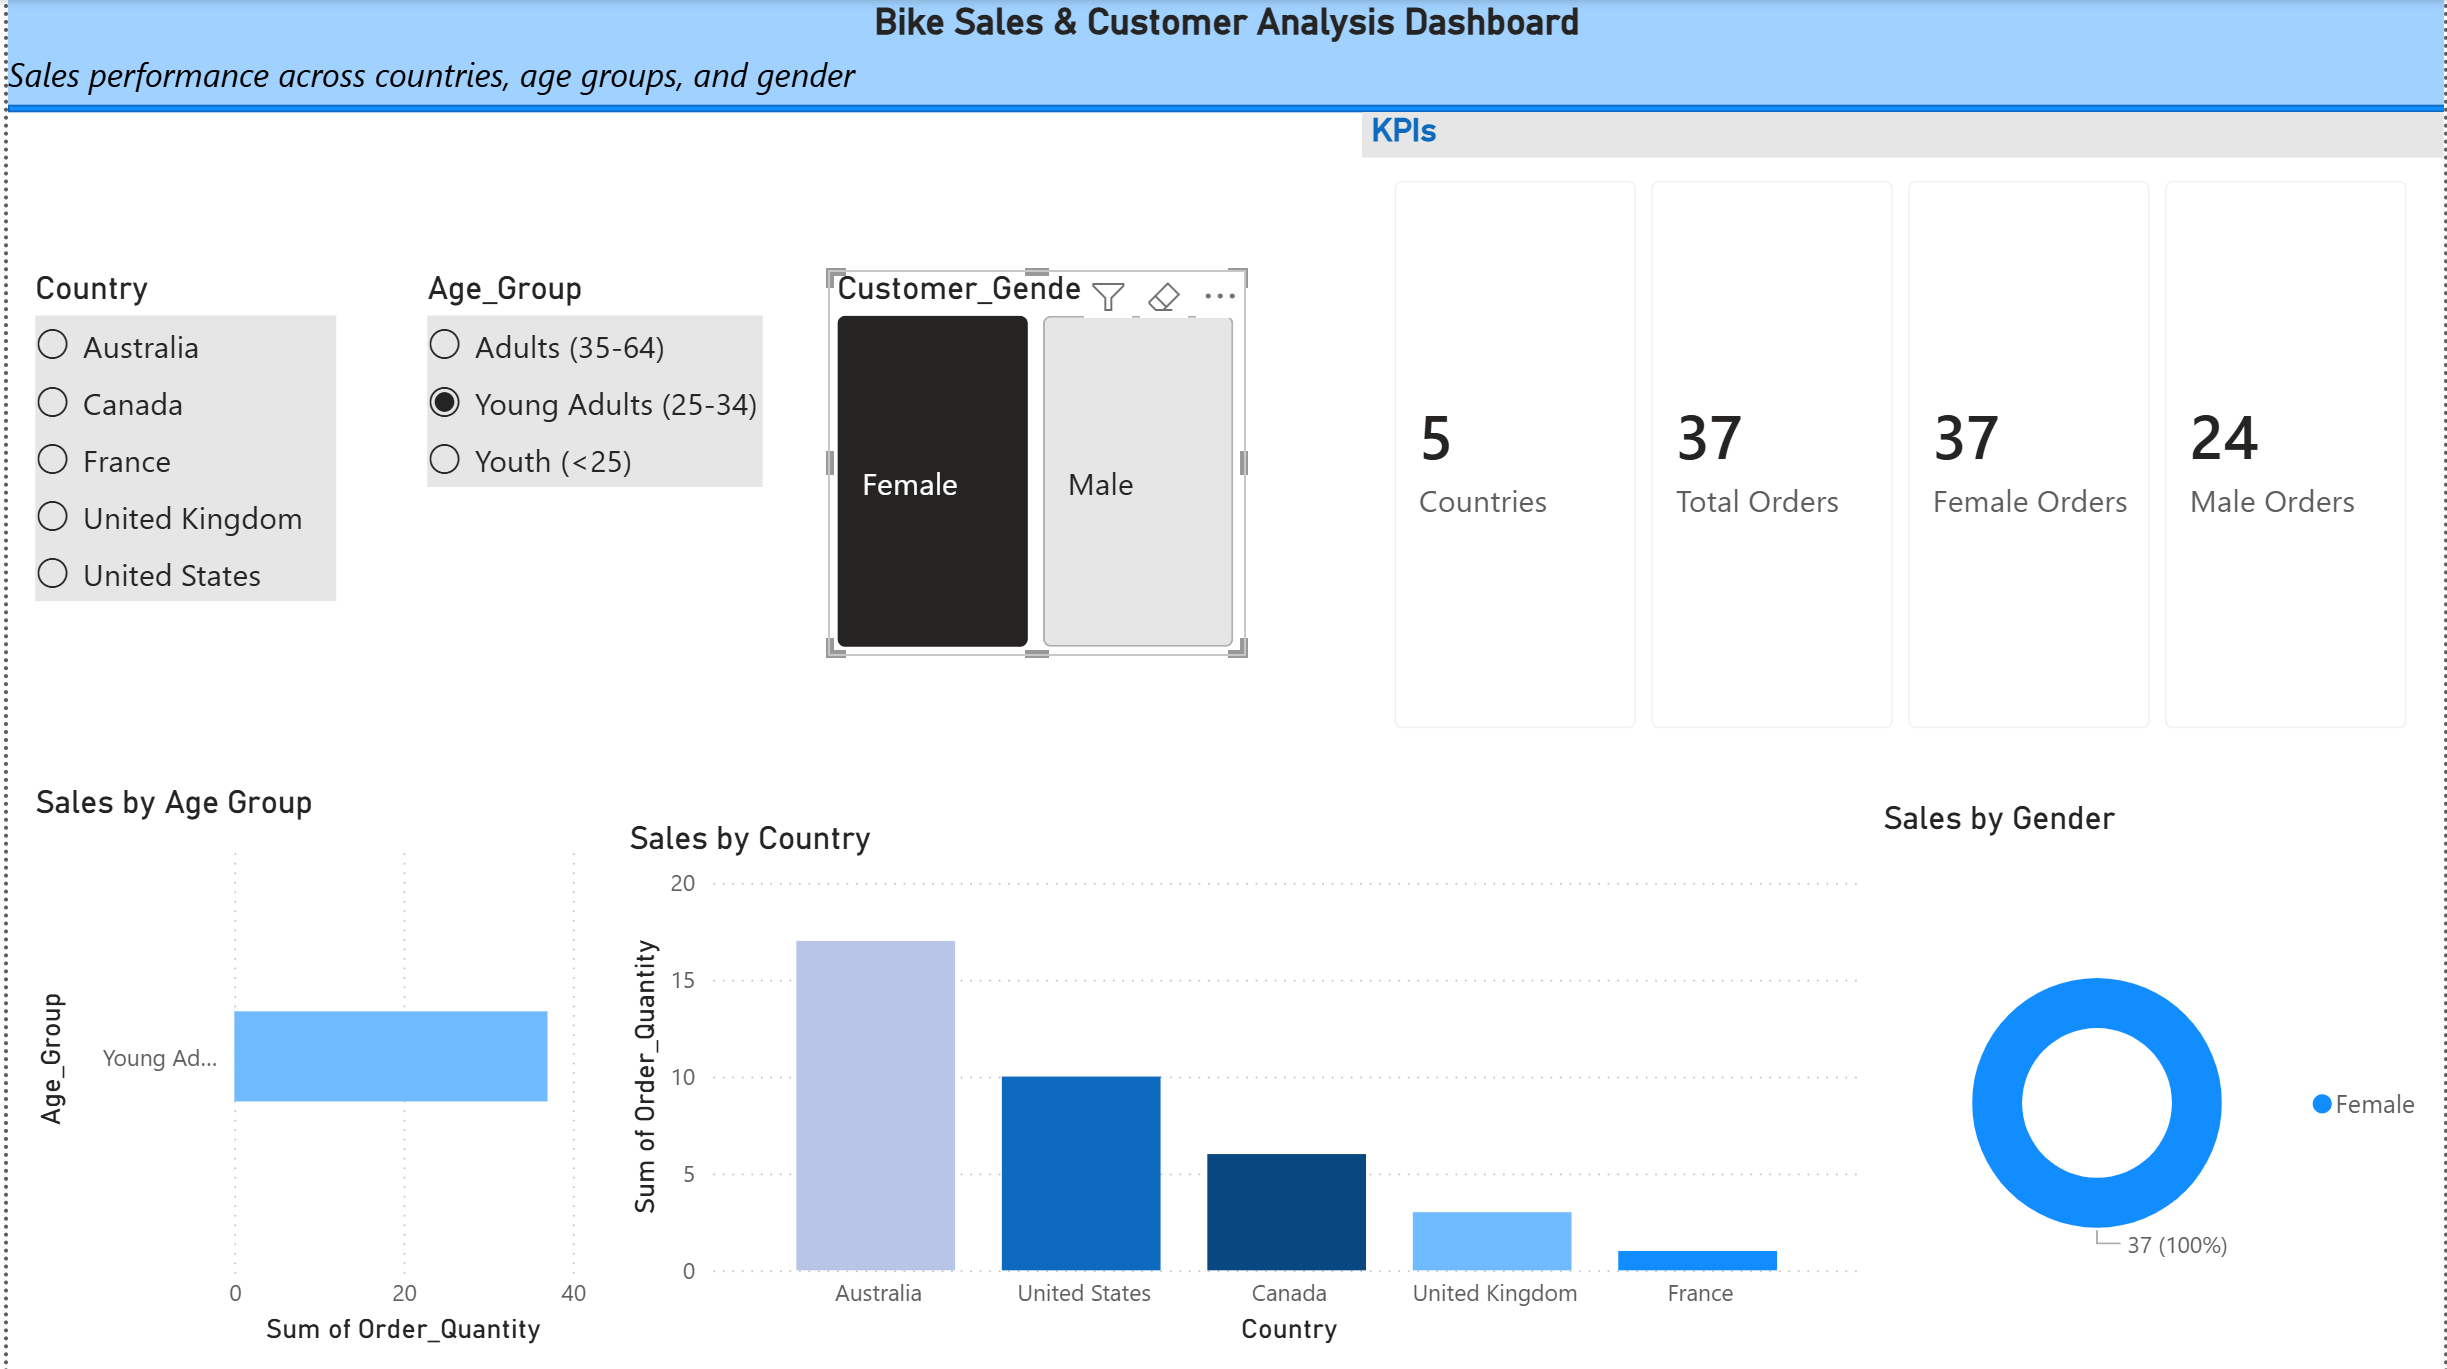

The page's visual inventory and layout, read from the dashboard file:
{"tool":"powerbi","page":{"name":"Page 1","canvas":[1280,720],"ordinal":0},"visuals":[{"type":"shape","title":"Bike Sales & Customer Analysis Dashboard","box":[0,0,1281.4,59.1],"z":0},{"type":"textbox","box":[21,209.5,1259,150],"z":1000},{"type":"textbox","box":[21,439,410,280],"z":2000},{"type":"clusteredColumnChart","title":"Sales by Country","fields":{"Category":["Sheet1.Country"],"Y":["Sum(Sheet1.Order_Quantity)"]},"box":[321.4,431.2,659.2,280.2],"z":3000},{"type":"clusteredBarChart","title":"Sales by Age Group","fields":{"Category":["Sheet1.Age_Group"],"Y":["Sum(Sheet1.Order_Quantity)"]},"box":[9.6,412,299.4,299.4],"z":4000},{"type":"donutChart","title":"Sales by Gender","fields":{"Category":["Sheet1.Customer_Gender"],"Y":["Sum(Sheet1.Order_Quantity)"]},"box":[980.6,420.3,299.4,299.4],"z":5000},{"type":"cardVisual","title":"KPIs","fields":{"Data":["Sheet1.Total Countries","Sheet1.Total Orders","Sheet1.Female Orders","Sheet1.Male Orders"]},"box":[711.4,59.1,568.6,342],"z":6000},{"type":"listSlicer","fields":{"Values":["Sheet1.Country"]},"box":[9.6,141.5,168.9,203.3],"z":7000},{"type":"listSlicer","fields":{"Values":["Sheet1.Age_Group"]},"box":[215.6,141.5,186.8,203.3],"z":8000},{"type":"advancedSlicerVisual","fields":{"Values":["Sheet1.Customer_Gender"]},"box":[431.2,141.5,219.7,203.3],"z":9000}]}

Visuals, with their boxes in screenshot pixels (x1, y1, x2, y2), scaled from the page's 1280x720 canvas onto the 2447x1369 screenshot:
"Bike Sales & Customer Analysis Dashboard" shape: <box>0,0,2446,112</box>
textbox: <box>40,398,2446,684</box>
textbox: <box>40,835,824,1367</box>
"Sales by Country" clusteredColumnChart: <box>614,820,1875,1353</box>
"Sales by Age Group" clusteredBarChart: <box>18,783,591,1353</box>
"Sales by Gender" donutChart: <box>1875,799,2446,1368</box>
"KPIs" cardVisual: <box>1360,112,2446,763</box>
listSlicer - Sheet1.Country: <box>18,269,341,656</box>
listSlicer - Sheet1.Age_Group: <box>412,269,769,656</box>
advancedSlicerVisual - Sheet1.Customer_Gender: <box>824,269,1244,656</box>
